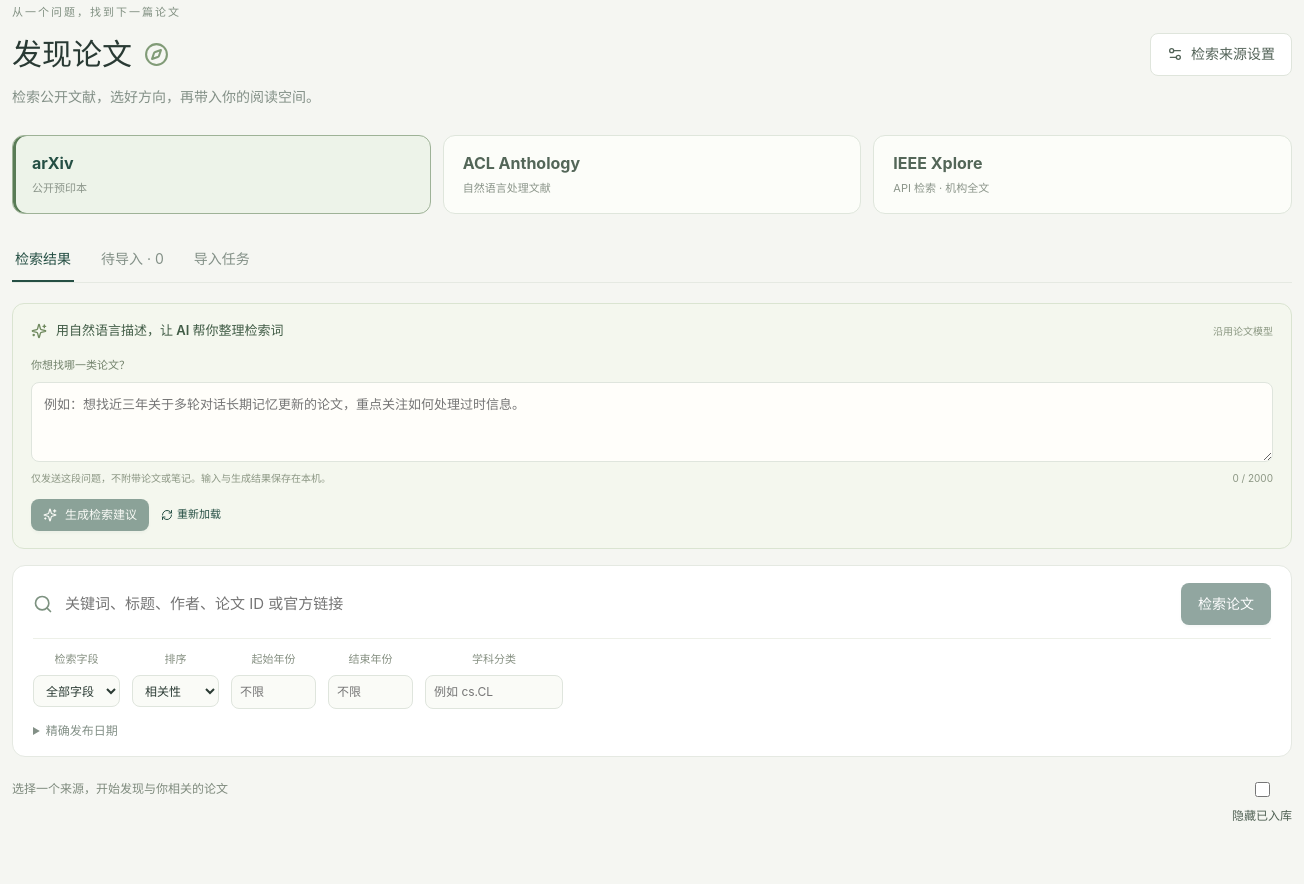
打开页面和编辑检索词不发外网请求，显式检索后才展示结果
The image size is (1304, 884).
Type "memory" into the field named "论文检索词" at (617, 604), box [65, 582, 1169, 626]
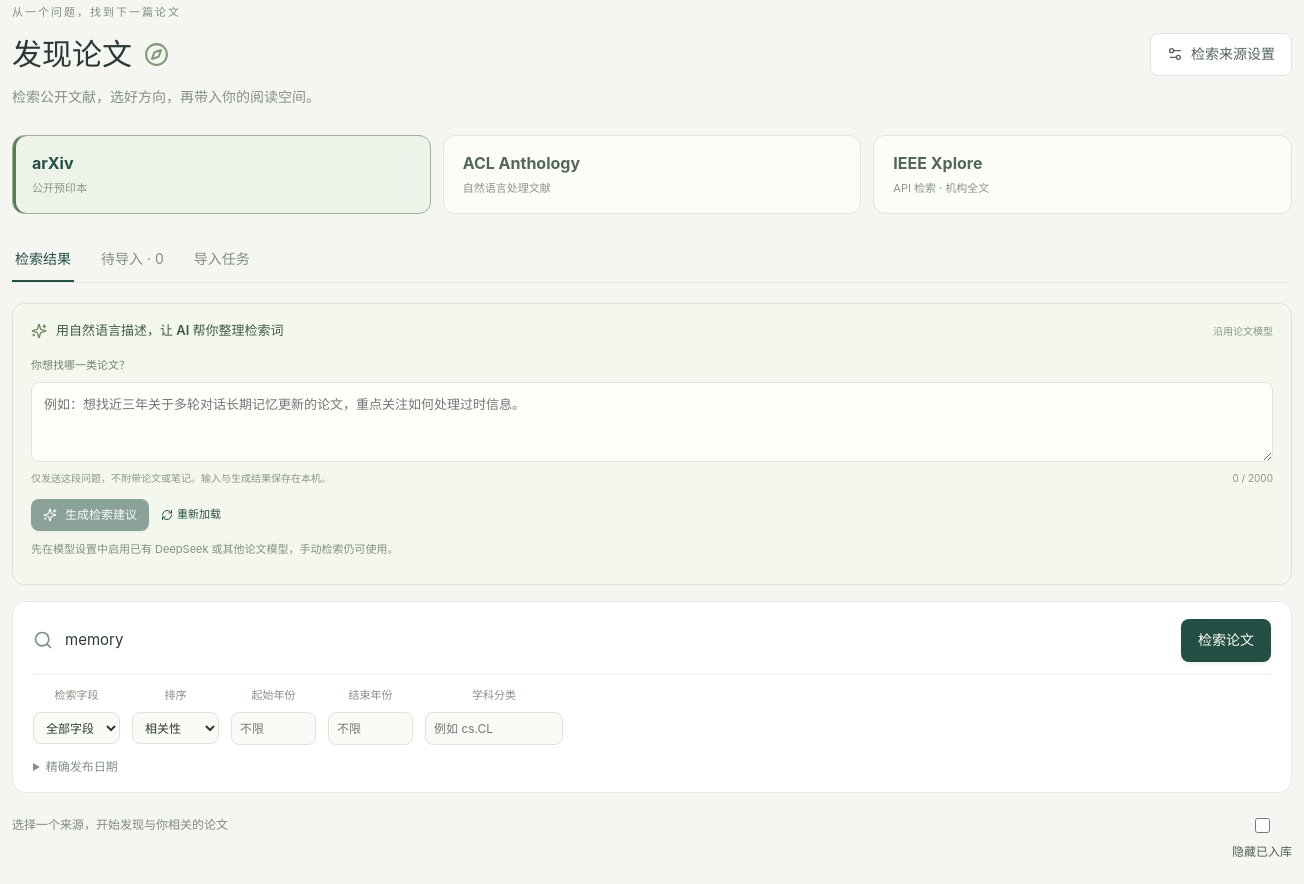
Click the button "检索论文" at (1226, 640), box [1181, 619, 1271, 662]
(page scrolled)
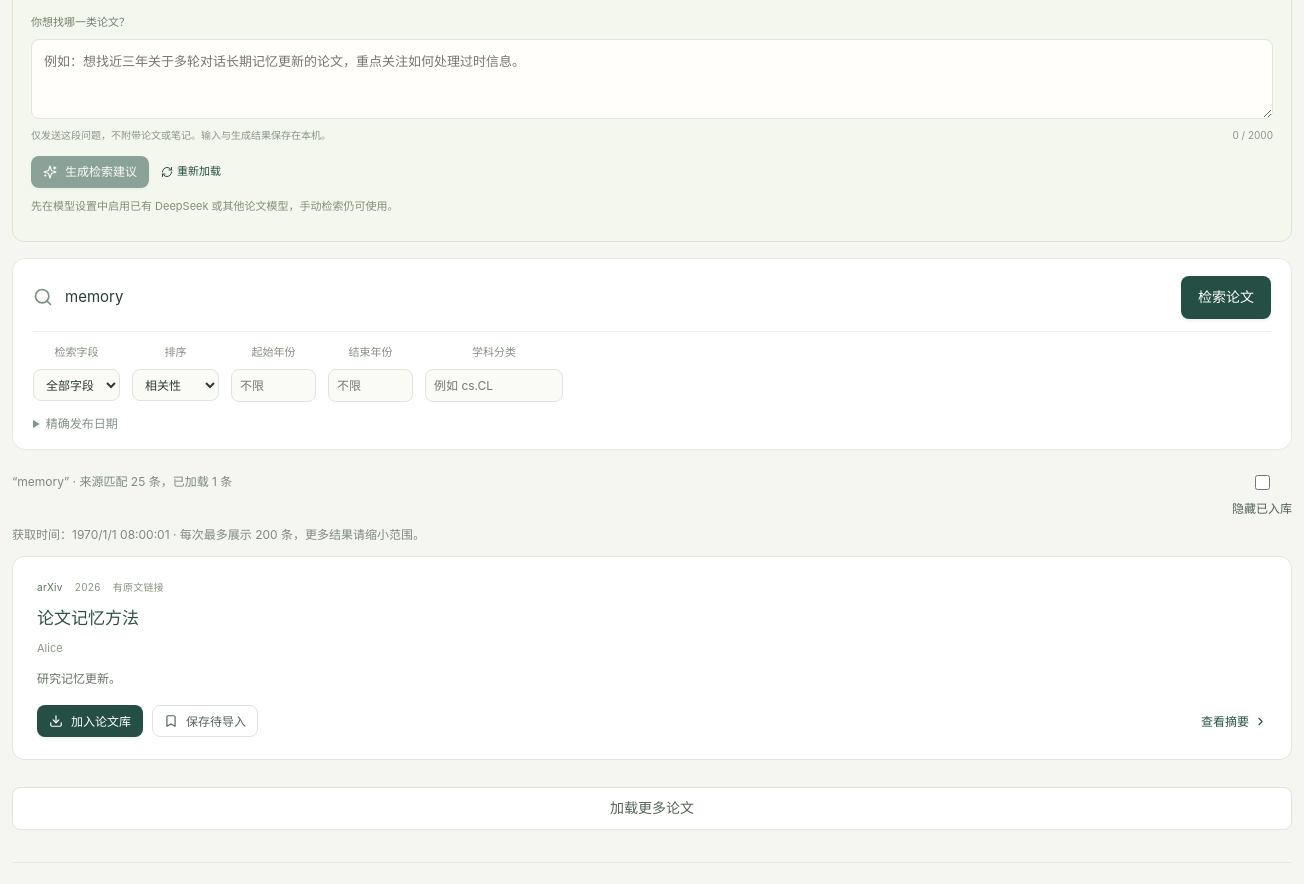
Expected: the button "论文记忆方法" is shown, [37, 605, 139, 631]
